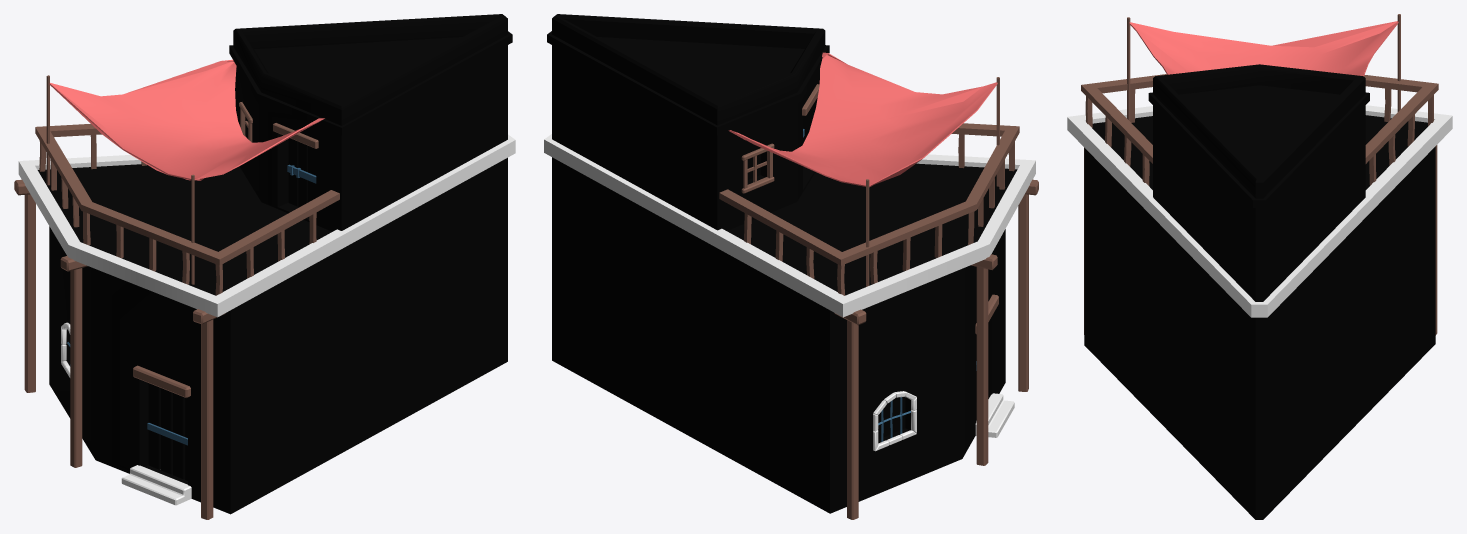
The model's file is civilian_house_30_f.FBX.
3 renders of one model, left to right at view 1: azimuth 30°, elevation 25°; view 2: azimuth 150°, elevation 25°; view 3: azimuth 270°, elevation 25°, orthographic.
Parts seen in each view (by area): view 1: civilian_house_30_f_LOD0; view 2: civilian_house_30_f_LOD0; view 3: civilian_house_30_f_LOD0.
Boxes of the visible parts, x1=… form: civilian_house_30_f_LOD0: x1=14, y1=14, x2=515, y2=519; civilian_house_30_f_LOD0: x1=544, y1=14, x2=1038, y2=519; civilian_house_30_f_LOD0: x1=1067, y1=14, x2=1452, y2=519.
Size of what is drawn, in the model's own units: 1268 by 933 by 960.
